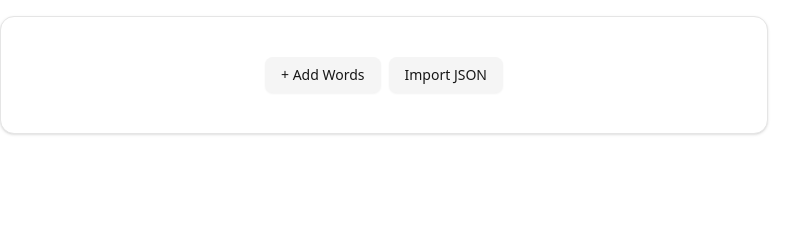
AddWordsForm › shows an error message when saving fails
# Open form and enter data
Click the button "+ Add Words": {"x": 323, "y": 75} [265,57,380,93]
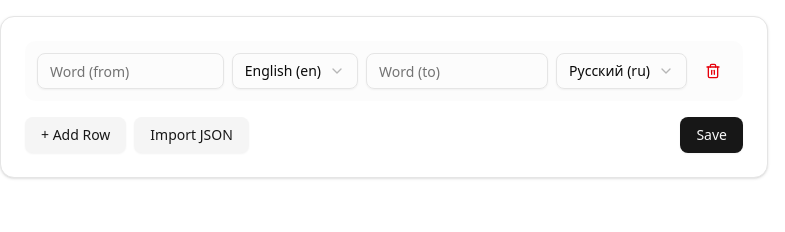
In the field with placeholder "Word (from)": {"x": 130, "y": 71} [37,53,224,89], type "cat"
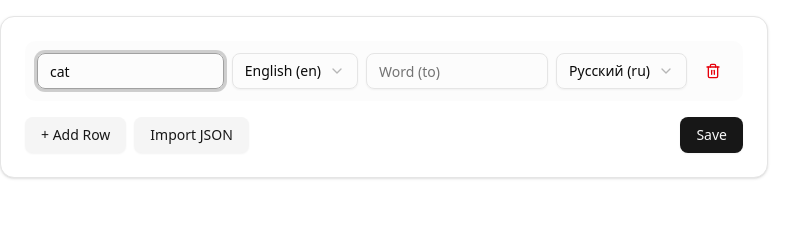
In the field with placeholder "Word (to)": {"x": 457, "y": 71} [366,53,548,89], type "kot"
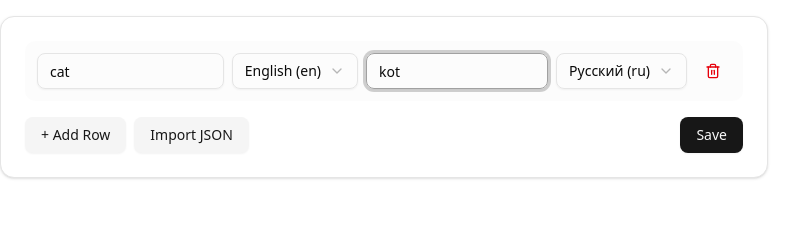
Submit the form, box [25,41,743,153]
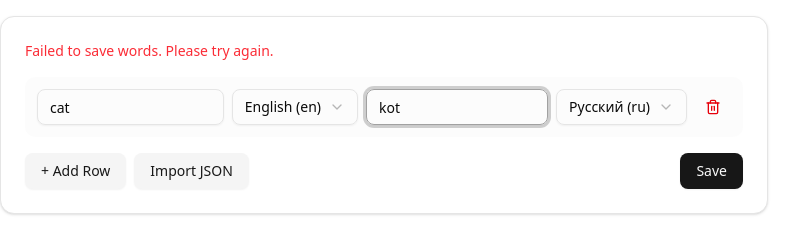
Expected: the text "Failed to save words. Please try again." is shown, [25,41,274,60]
